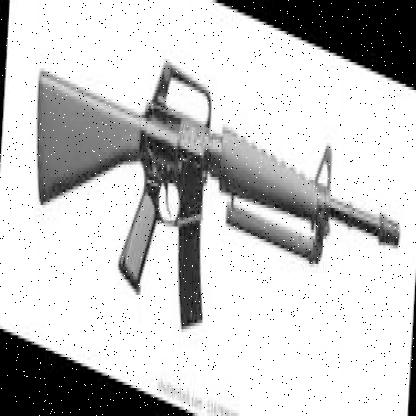rifle: (29, 13, 401, 406)
